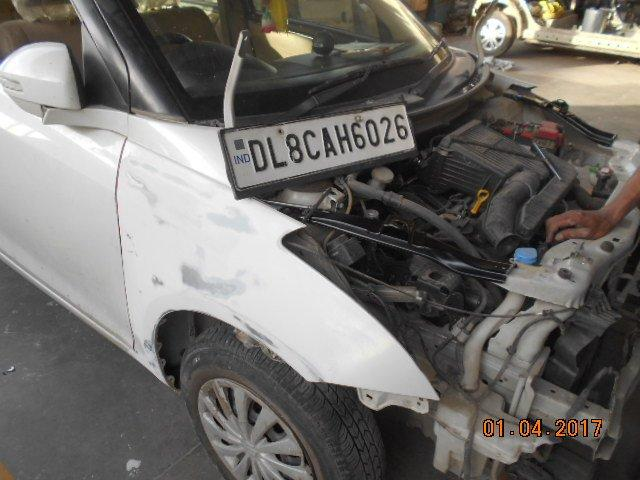Large_tear_or_damage: (239, 137, 622, 476)
